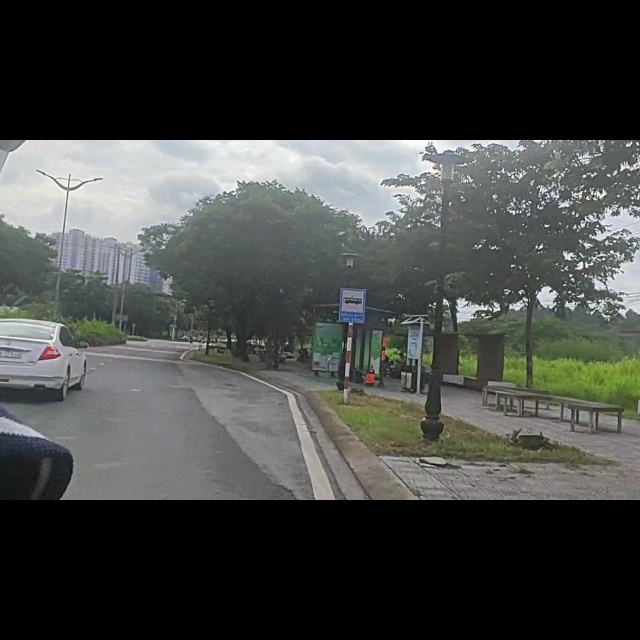bien_hieu_lenh: (337, 257, 370, 337)
